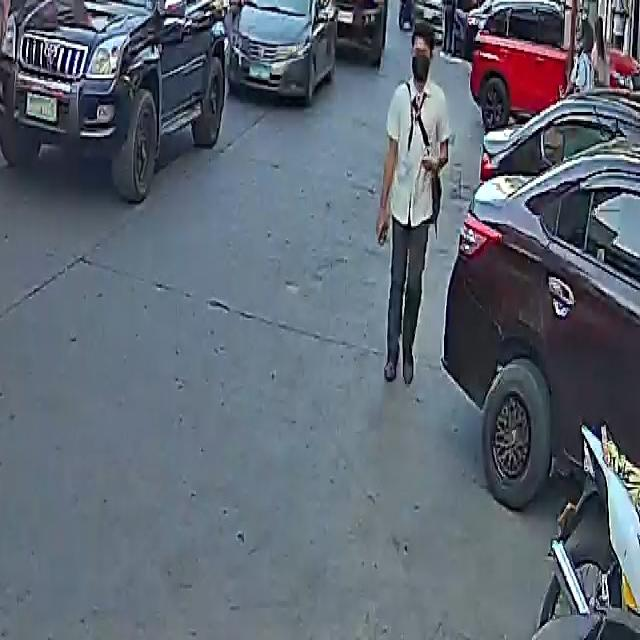car: (444, 82, 640, 526), (0, 0, 234, 197), (468, 0, 622, 132), (226, 0, 341, 103), (323, 0, 396, 64)
